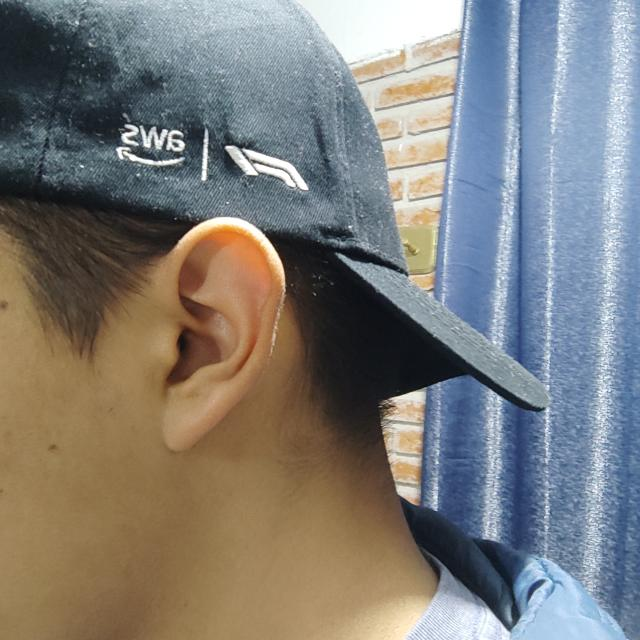ear: (114, 218, 285, 451)
